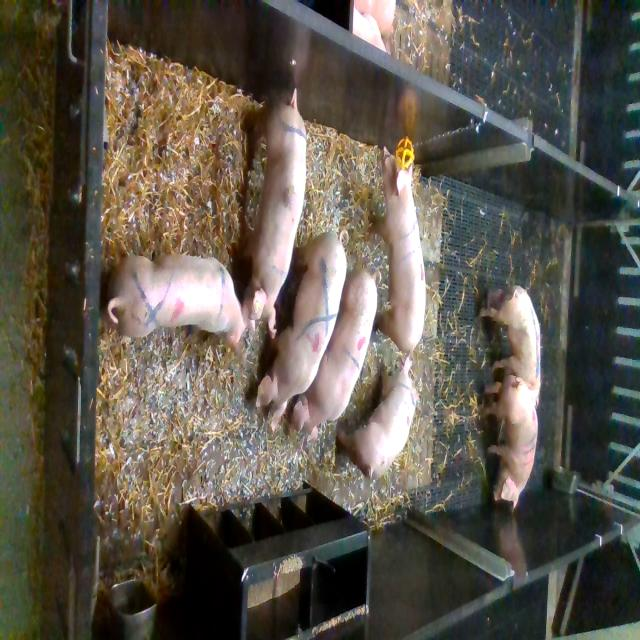pig: (256, 231, 349, 431), (239, 88, 307, 339), (289, 268, 381, 446), (107, 254, 256, 358), (369, 146, 426, 358), (336, 356, 419, 479), (480, 285, 541, 410), (483, 374, 538, 509)
